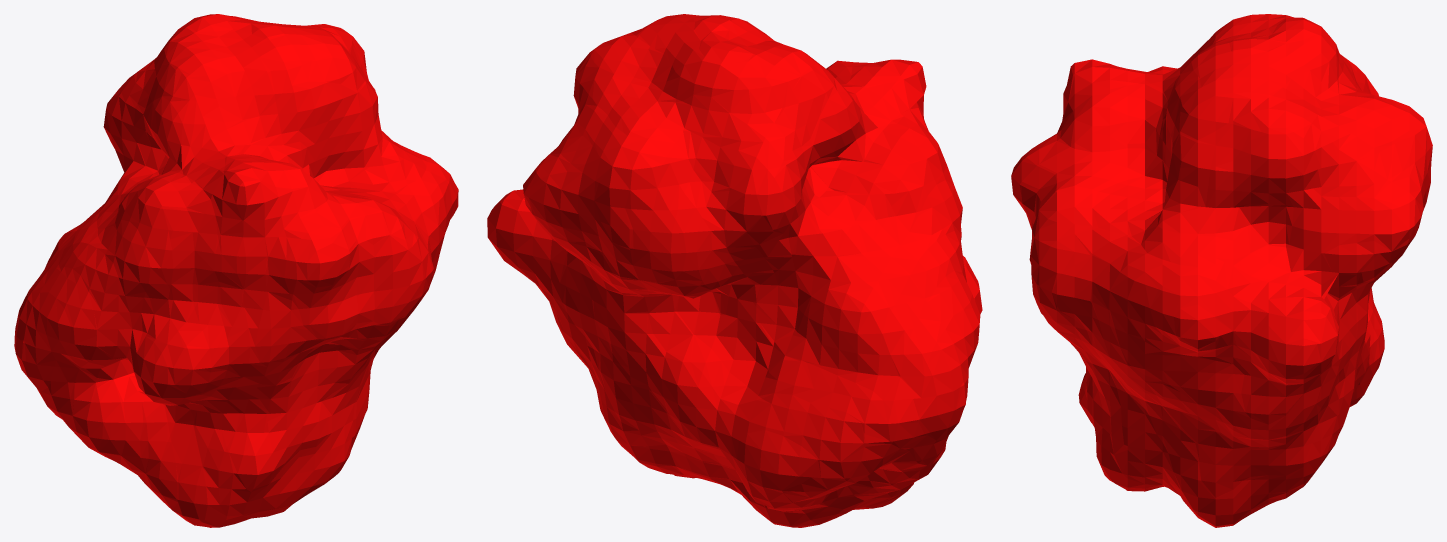
Rendered from frdA_coarse.dae.
The picture shows the model from 3 angles, left to right: view 1: azimuth 30°, elevation 25°; view 2: azimuth 150°, elevation 25°; view 3: azimuth 270°, elevation 25°; orthographic projection. The views are drawn at different scales.
Parts seen in each view (by area): view 1: frdA; view 2: frdA; view 3: frdA.
Boxes of the visible parts, x1,y1,x2,y2 form: frdA: (14, 14, 458, 527); frdA: (487, 14, 982, 527); frdA: (1011, 14, 1432, 527).
Size of the model in its own units: 71.63 by 73.29 by 58.34.
